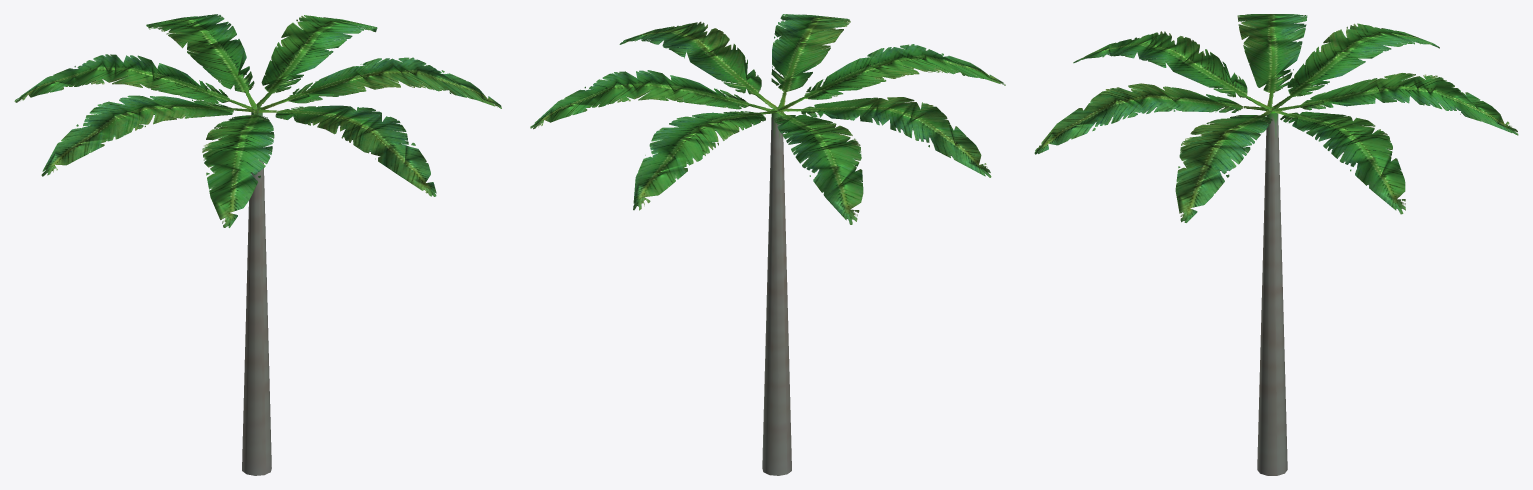
Rendered from pohon 1.fbx.
The picture shows the model from 3 angles, left to right: view 1: azimuth 30°, elevation 25°; view 2: azimuth 150°, elevation 25°; view 3: azimuth 270°, elevation 25°; orthographic projection.
Visible parts, largest first — view 1: Cylinder; view 2: Cylinder; view 3: Cylinder.
Boxes of the visible parts, left/top/right/bottom form: Cylinder: left=14, top=14, right=501, bottom=475; Cylinder: left=530, top=14, right=1005, bottom=475; Cylinder: left=1034, top=14, right=1518, bottom=475.
Bounding box in the file's own units: 1039 × 928 × 1052.
